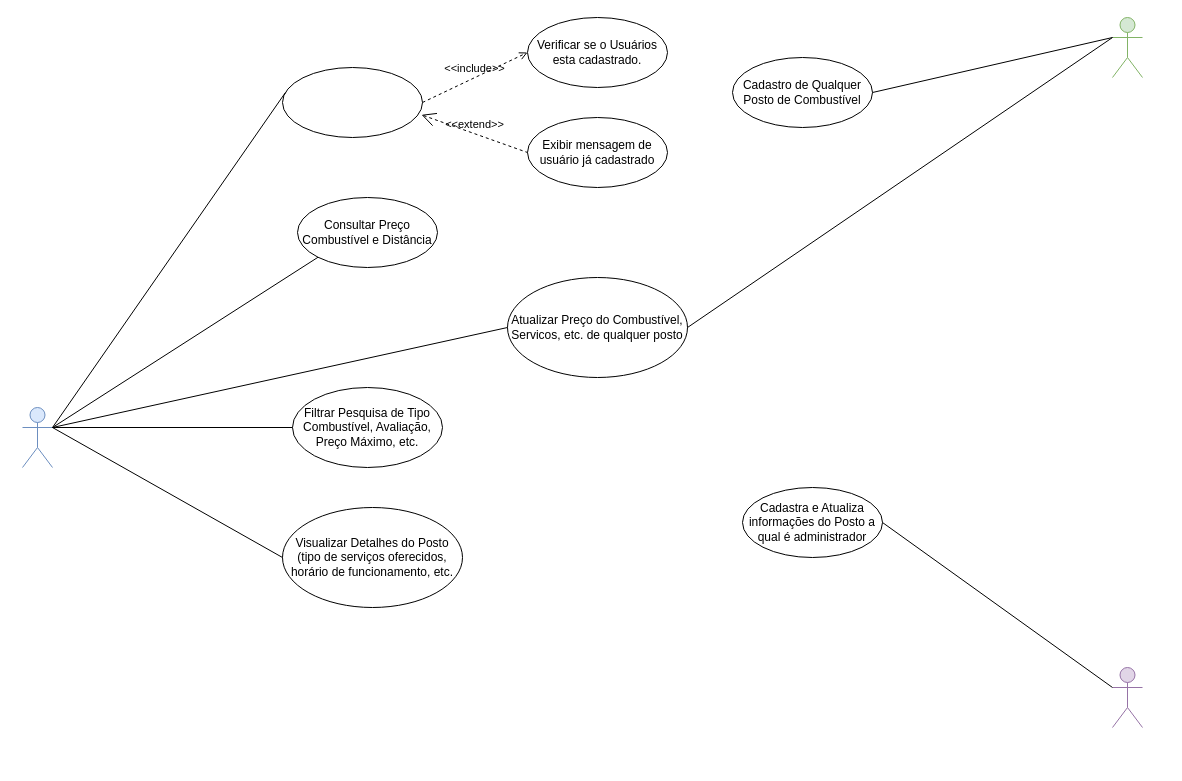
The diagram is 1182 pixels wide and 781 high, and some of its shapes have lost their labels. The shapes that lost their labels are listed below. From the top down, each one's centre as x and y in pixels, then its label:
At pixel 1127 47: "Administrador do App".
At pixel 352 102: "Registrar/Login de Usuário".
At pixel 37 437: "Usuário".
At pixel 1127 697: "Usuário Dono do Posto".
